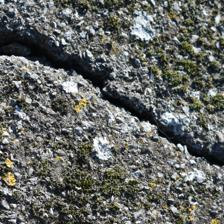Crack: (5, 11, 212, 158)
